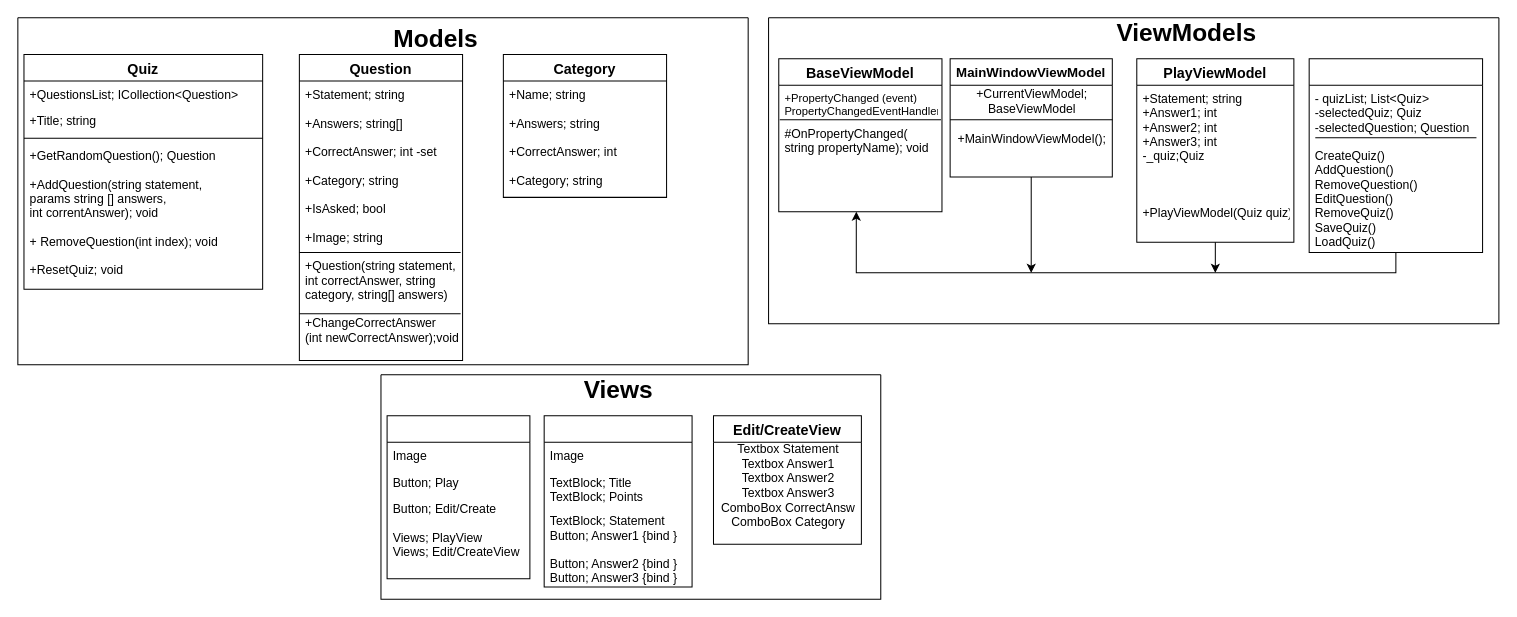
Some shapes in this 1517 by 617 pixel diagram are drawn without their labels. Each missing label, with the box of its shape:
EditViewModel: (1308, 58, 1483, 252)
MainWindow: (386, 415, 530, 579)
PlayView: (543, 415, 692, 587)
